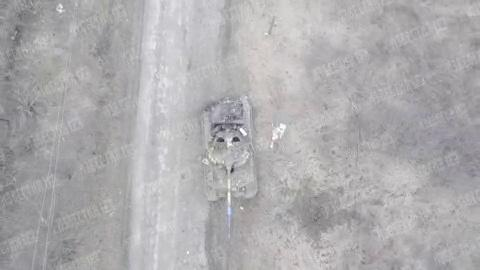tank: (202, 96, 258, 240)
